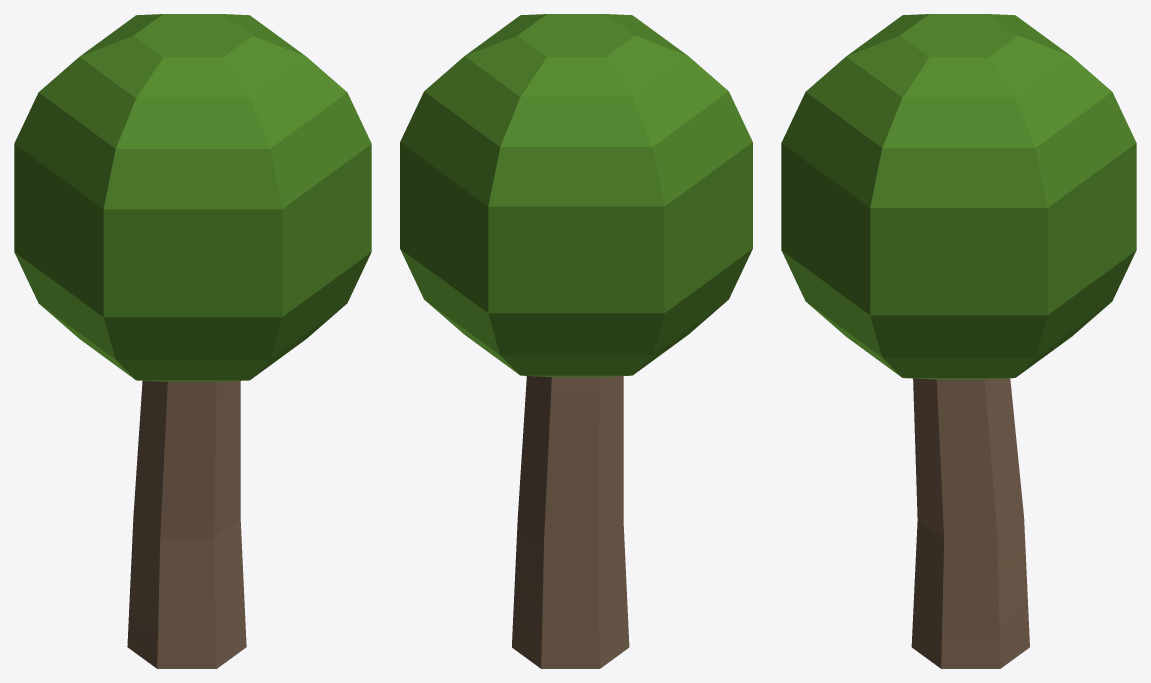
File: Hilly_Prop_Tree_Oak_3.fbx
3 views of the same model, side by side, from view 1: azimuth 30°, elevation 25°; view 2: azimuth 150°, elevation 25°; view 3: azimuth 270°, elevation 25° (orthographic).
Visible parts, largest first — view 1: object2, object1; view 2: object2, object1; view 3: object2, object1.
Part boxes in pixels (<box>): object2: <box>14,14,371,381</box>; object1: <box>127,380,246,668</box>; object2: <box>400,14,752,376</box>; object1: <box>512,376,629,668</box>; object2: <box>781,14,1136,379</box>; object1: <box>911,378,1029,668</box>.
Size of the model in its own units: 1.3 by 2.85 by 1.5.
